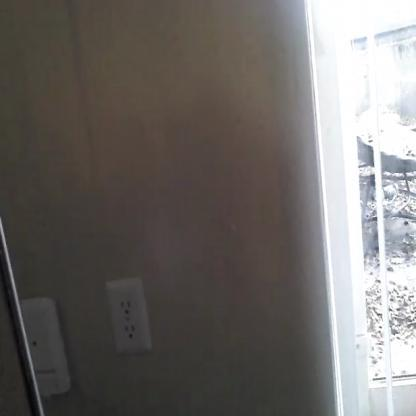OUTLET: (110, 282, 146, 350)
